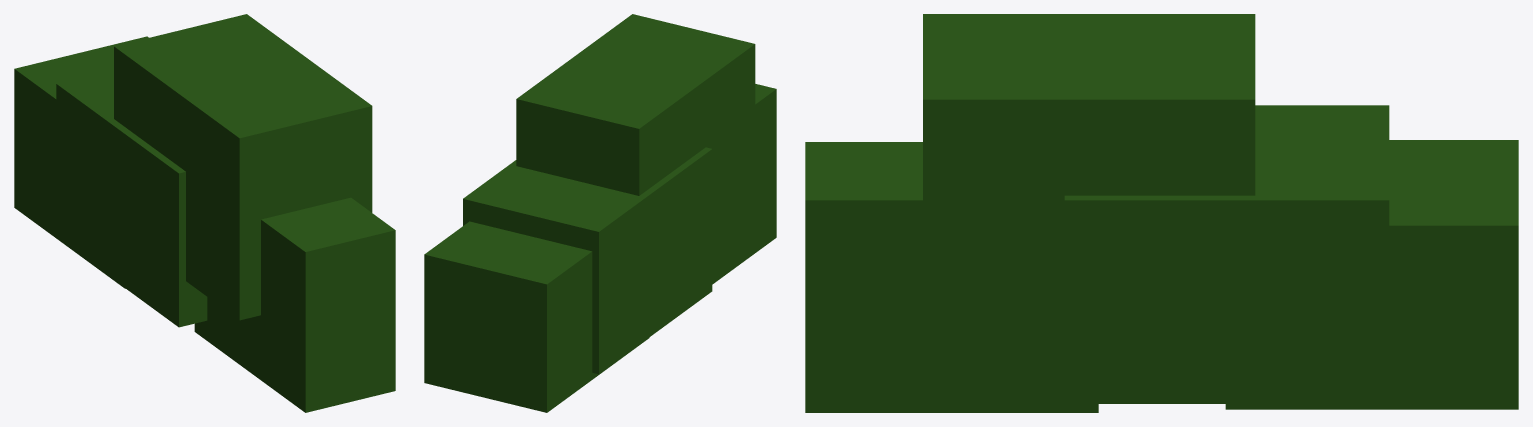
Rendered from Arbusto.fbx.
3 renders of one model, left to right at view 1: azimuth 30°, elevation 25°; view 2: azimuth 150°, elevation 25°; view 3: azimuth 270°, elevation 25°, orthographic. The views are drawn at different scales.
Parts seen in each view (by area): view 1: Arbusto; view 2: Arbusto; view 3: Arbusto.
Boxes of the visible parts, x1,y1,x2,y2 form: Arbusto: (14,14,395,412); Arbusto: (424,14,776,412); Arbusto: (805,14,1518,412).
Bounding box in the file's own units: 56.5 × 90.74 × 179.
